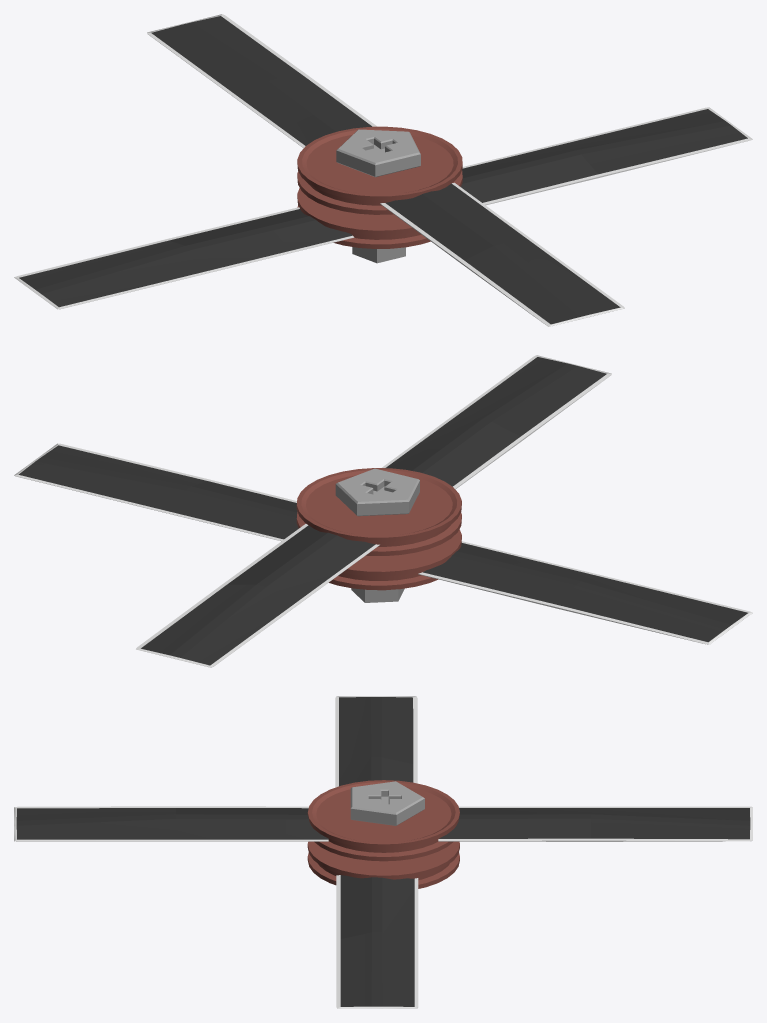
The model's file is tile_rotatingSlicer.fbx.
3 views of the same model, one above another, from view 1: azimuth 30°, elevation 25°; view 2: azimuth 150°, elevation 25°; view 3: azimuth 270°, elevation 25° (orthographic). The views are drawn at different scales.
Visible parts, largest first — view 1: Blade.002, Blade.003, Blade, Blade.001, Axel_Top, Screw, Axel_Bottom; view 2: Blade.001, Blade.002, Blade.003, Blade, Axel_Top, Screw, Axel_Bottom; view 3: Blade, Blade.003, Blade.001, Axel_Top, Blade.002, Axel_Bottom, Screw.
Part boxes in pixels (x1,y1,x2,y2): Blade.002: [14, 207, 354, 309]; Blade.003: [380, 182, 624, 326]; Blade: [461, 107, 752, 205]; Blade.001: [147, 14, 376, 148]; Axel_Top: [297, 126, 462, 214]; Screw: [336, 129, 420, 263]; Axel_Bottom: [297, 188, 430, 248]; Blade.001: [136, 524, 379, 667]; Blade.002: [418, 541, 752, 644]; Blade.003: [382, 355, 611, 489]; Blade: [14, 443, 298, 541]; Axel_Top: [296, 468, 461, 555]; Screw: [335, 468, 419, 602]; Axel_Bottom: [329, 529, 461, 590]; Blade: [336, 875, 418, 1008]; Blade.003: [14, 806, 328, 841]; Blade.001: [438, 806, 752, 841]; Axel_Top: [307, 780, 459, 861]; Blade.002: [335, 696, 417, 787]; Axel_Bottom: [307, 841, 459, 888]; Screw: [350, 781, 424, 825].
Size of the model in its own units: 1800 by 263 by 1802.
